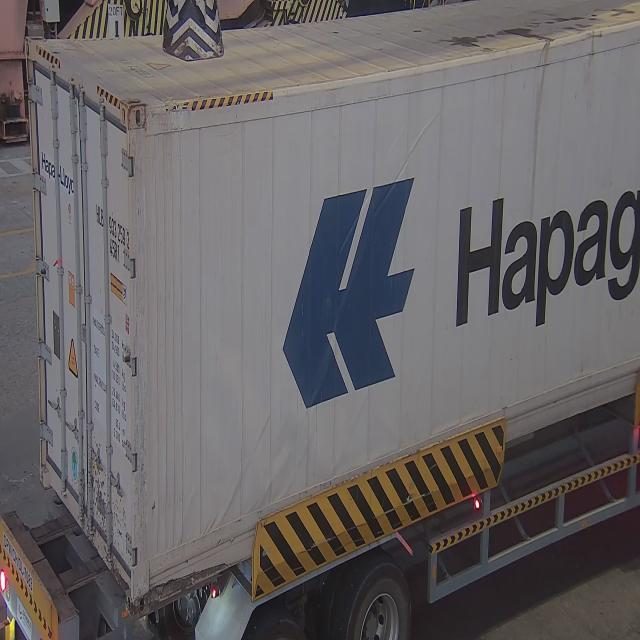dent: (253, 428, 299, 508)
